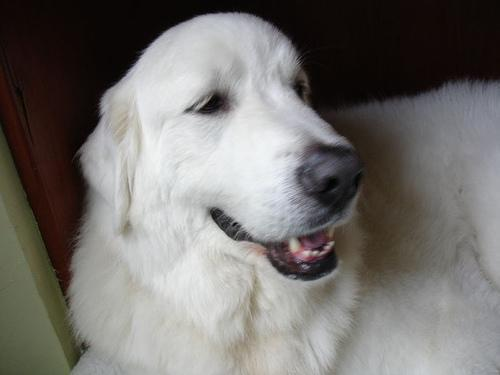Great_Pyrenees: (65, 13, 499, 374)
